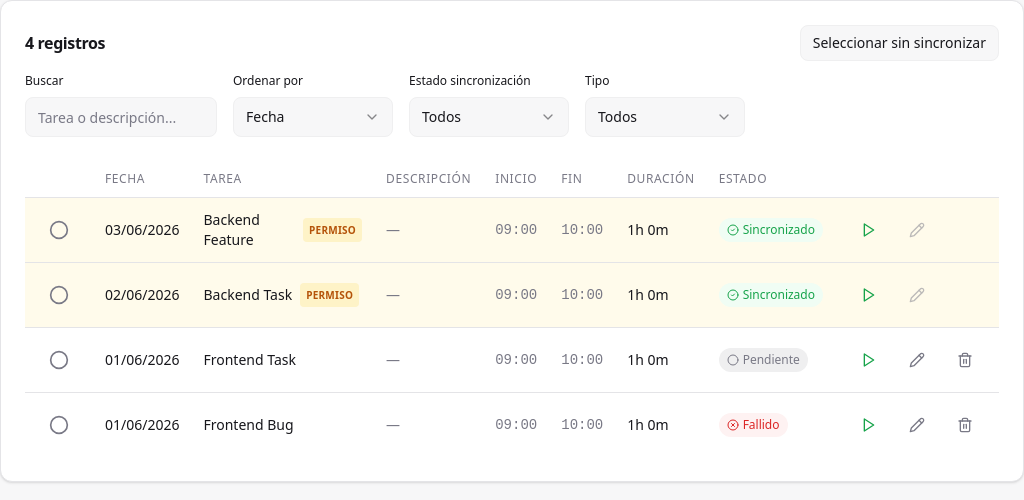
Test: TimeEntryViewSwitcher › selection controls › Tipo filter (recoverable) › filtering by "Permiso" shows only recoverable entries
Find and click the Tipo filter
Click the dropdown labelled "Todos" below "Tipo". click: (665, 117)
box: [585,97,745,137]
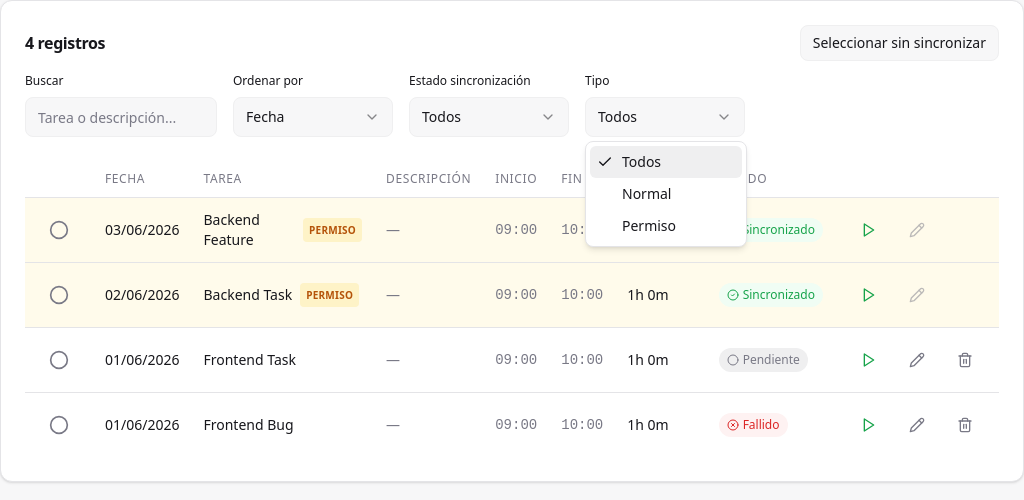
Select "Permiso"
Click the option "Permiso". click: (649, 226)
box: [622,216,676,235]
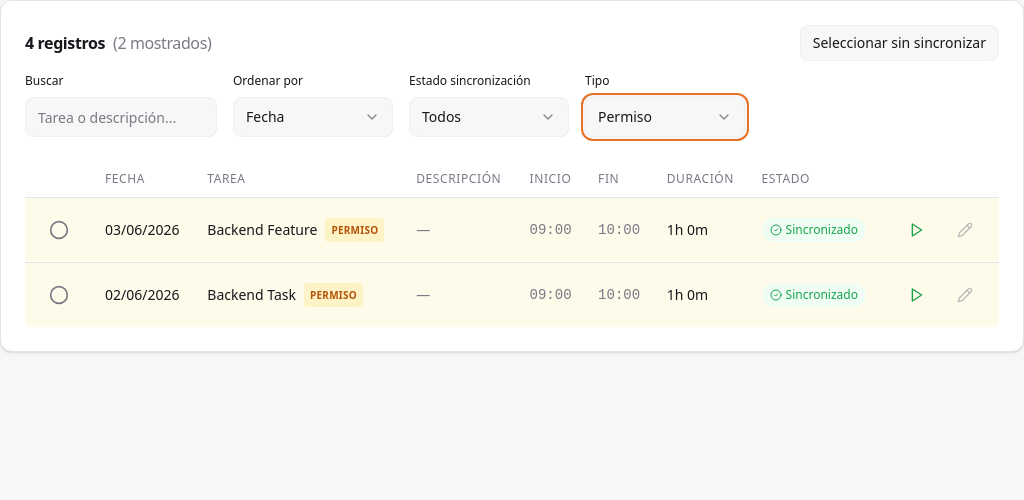
Expected: the text "Frontend Task" is gone
Expected: the text "Frontend Bug" is gone
Expected: the text "(2 mostrados)" is shown, [113,32,211,54]
